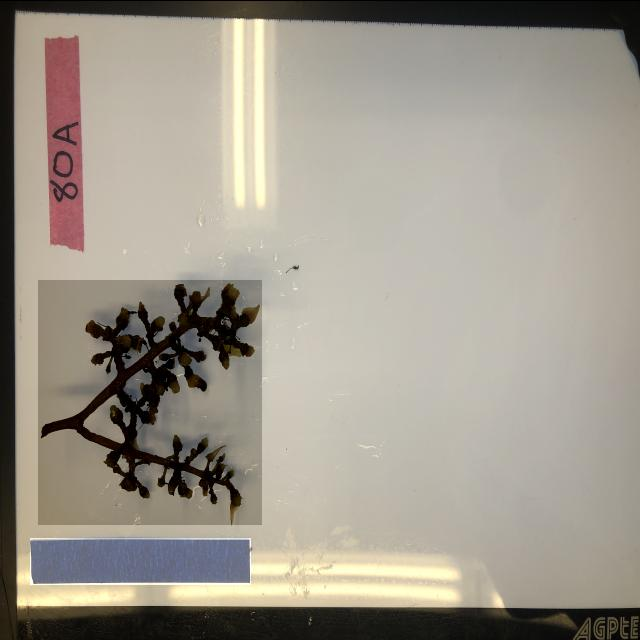index: (42, 32, 87, 250)
measure_label: (30, 537, 251, 584)
rachis_cluster: (39, 279, 262, 524)
